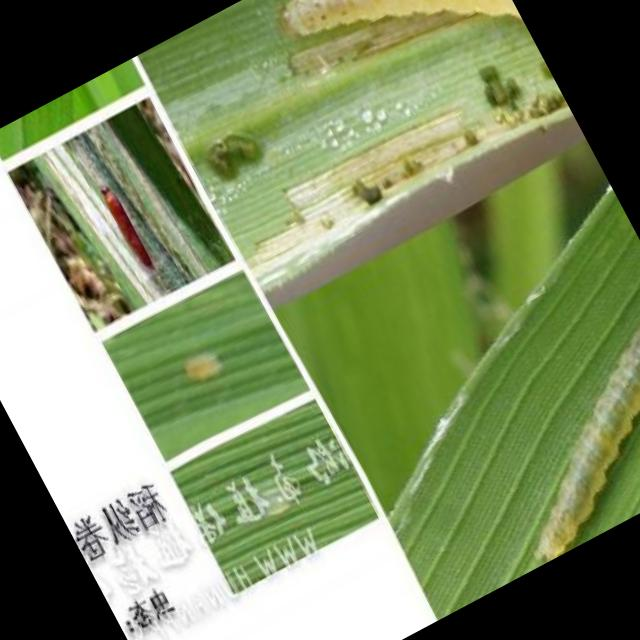leaf-folder: (443, 285, 640, 568), (229, 0, 513, 122), (77, 157, 166, 280), (156, 319, 241, 406)
